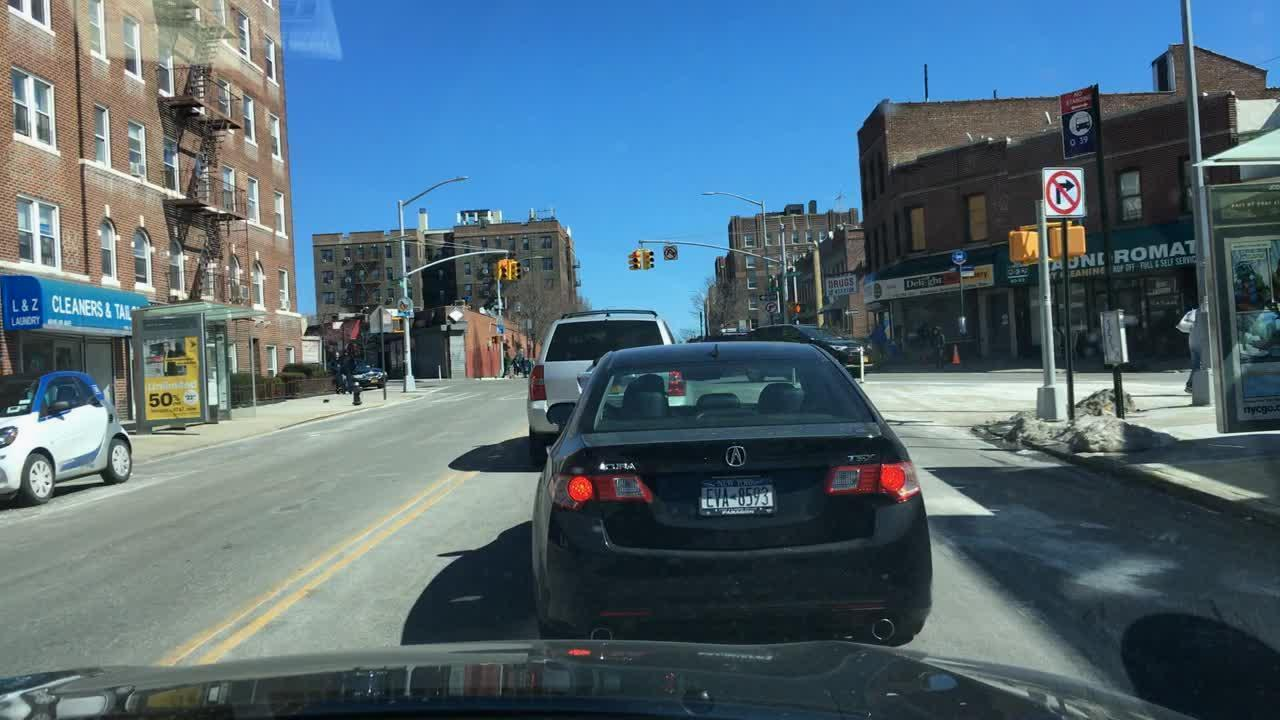acura: (716, 438, 756, 476)
